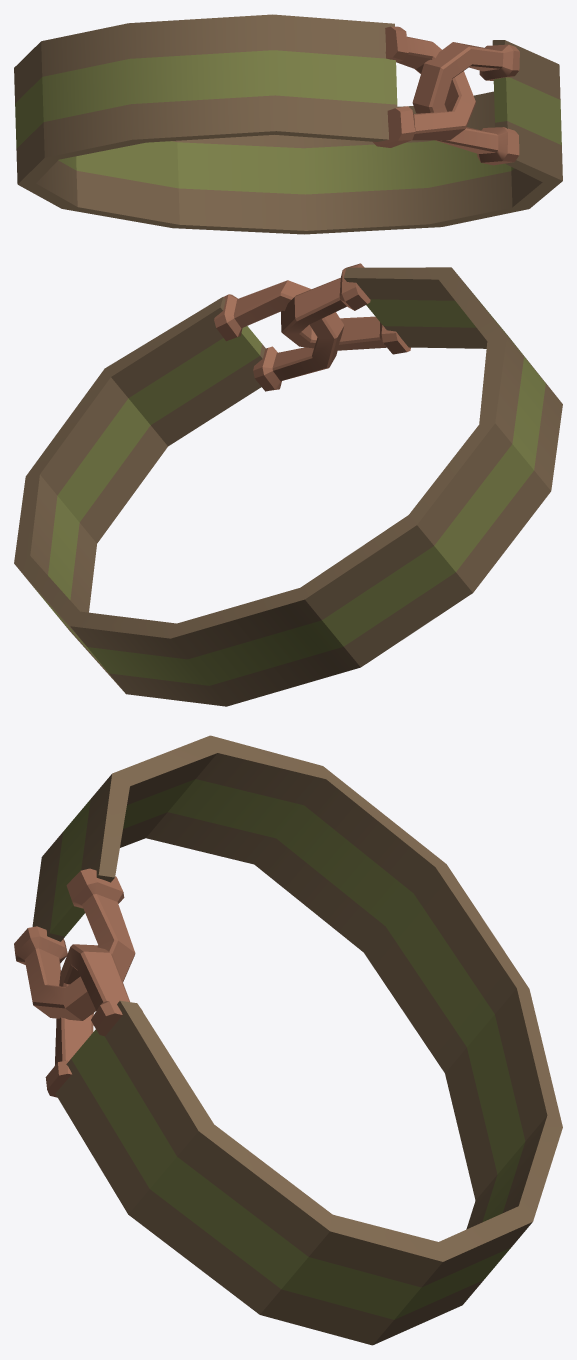
The model's file is genericCollar.fbx.
3 renders of one model, top to bottom at view 1: azimuth 30°, elevation 25°; view 2: azimuth 150°, elevation 25°; view 3: azimuth 270°, elevation 25°, orthographic. The views are drawn at different scales.
Visible parts, largest first — view 1: genericCollar; view 2: genericCollar; view 3: genericCollar.
Part boxes in pixels (x1=…): genericCollar: x1=14, y1=14, x2=562, y2=234; genericCollar: x1=14, y1=263, x2=562, y2=706; genericCollar: x1=14, y1=735, x2=562, y2=1345.
Bounding box in the file's own units: 1.71 × 1.2 × 1.4.
Materials: 1 (1 with a texture image).
